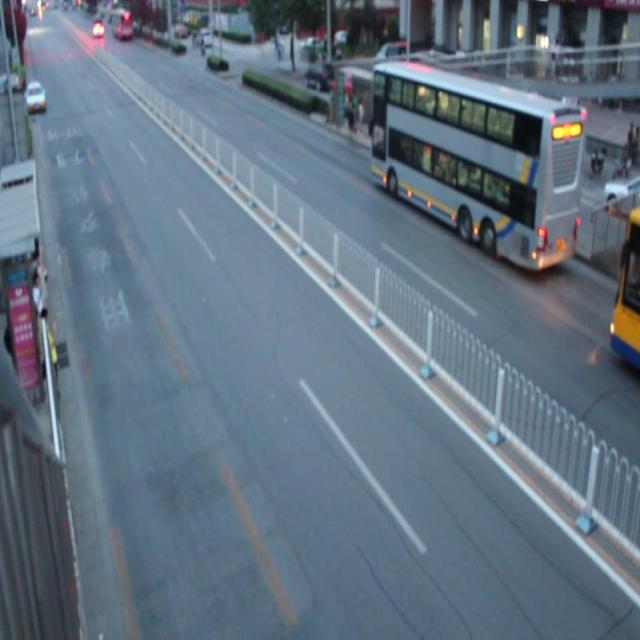van: (370, 60, 584, 274), (607, 204, 640, 370)
